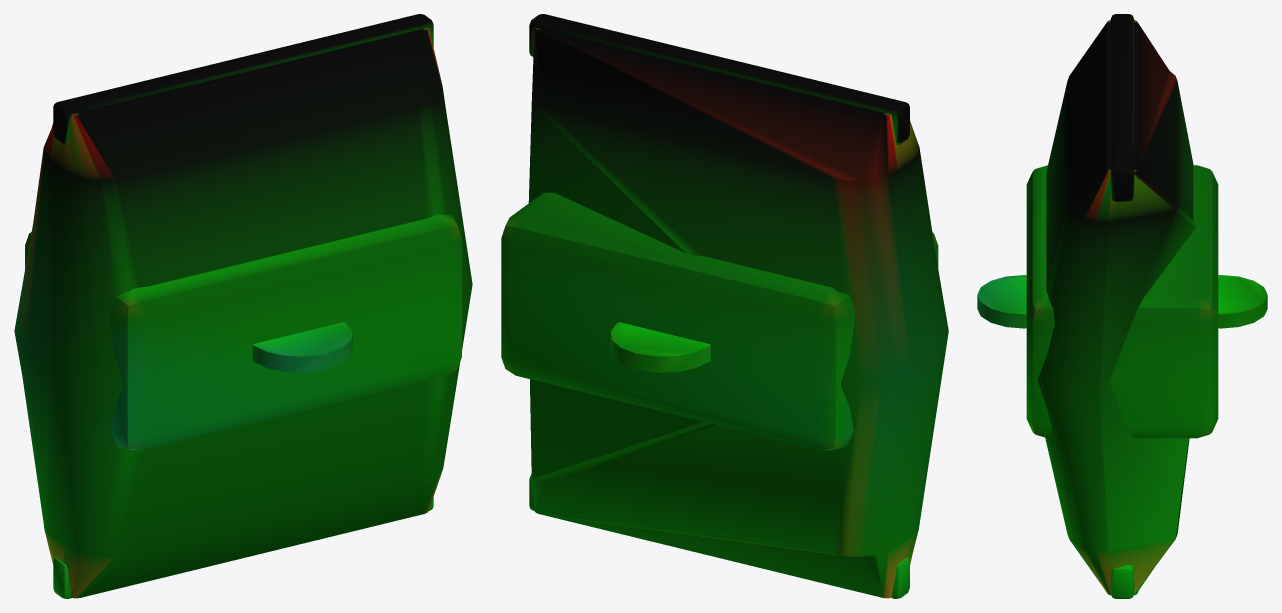
Rendered from hero_snack_pack.glb.
3 views of the same model, side by side, from view 1: azimuth 30°, elevation 25°; view 2: azimuth 150°, elevation 25°; view 3: azimuth 270°, elevation 25° (orthographic). The views are drawn at different scales.
Visible parts, largest first — view 1: HeroSnackPack; view 2: HeroSnackPack; view 3: HeroSnackPack.
Part boxes in pixels (x1=…): HeroSnackPack: x1=14, y1=14, x2=472, y2=598; HeroSnackPack: x1=501, y1=14, x2=948, y2=598; HeroSnackPack: x1=977, y1=14, x2=1267, y2=598.
Bounding box in the file's own units: 0.32 × 0.366 × 0.224.
